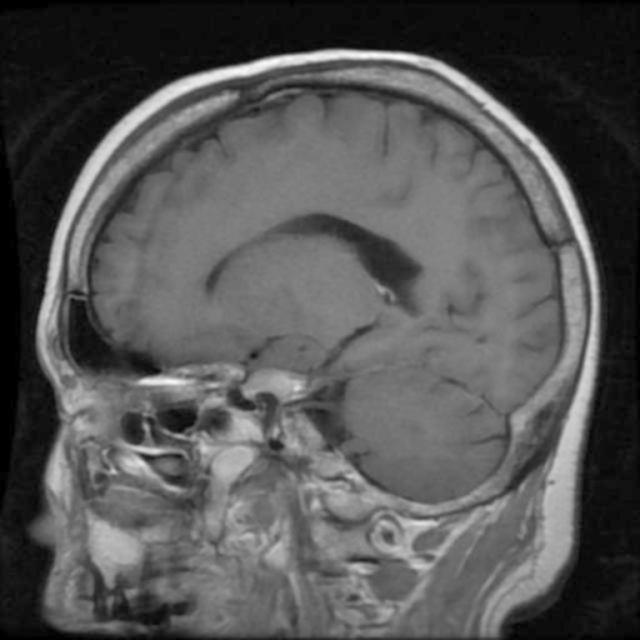no tumor: (238, 356, 314, 406)
